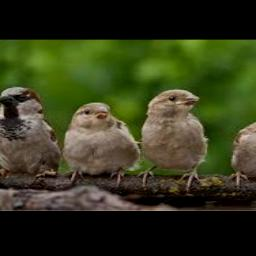Sparrow: (138, 89, 207, 190), (63, 102, 140, 182), (0, 86, 61, 182), (229, 103, 256, 189)
